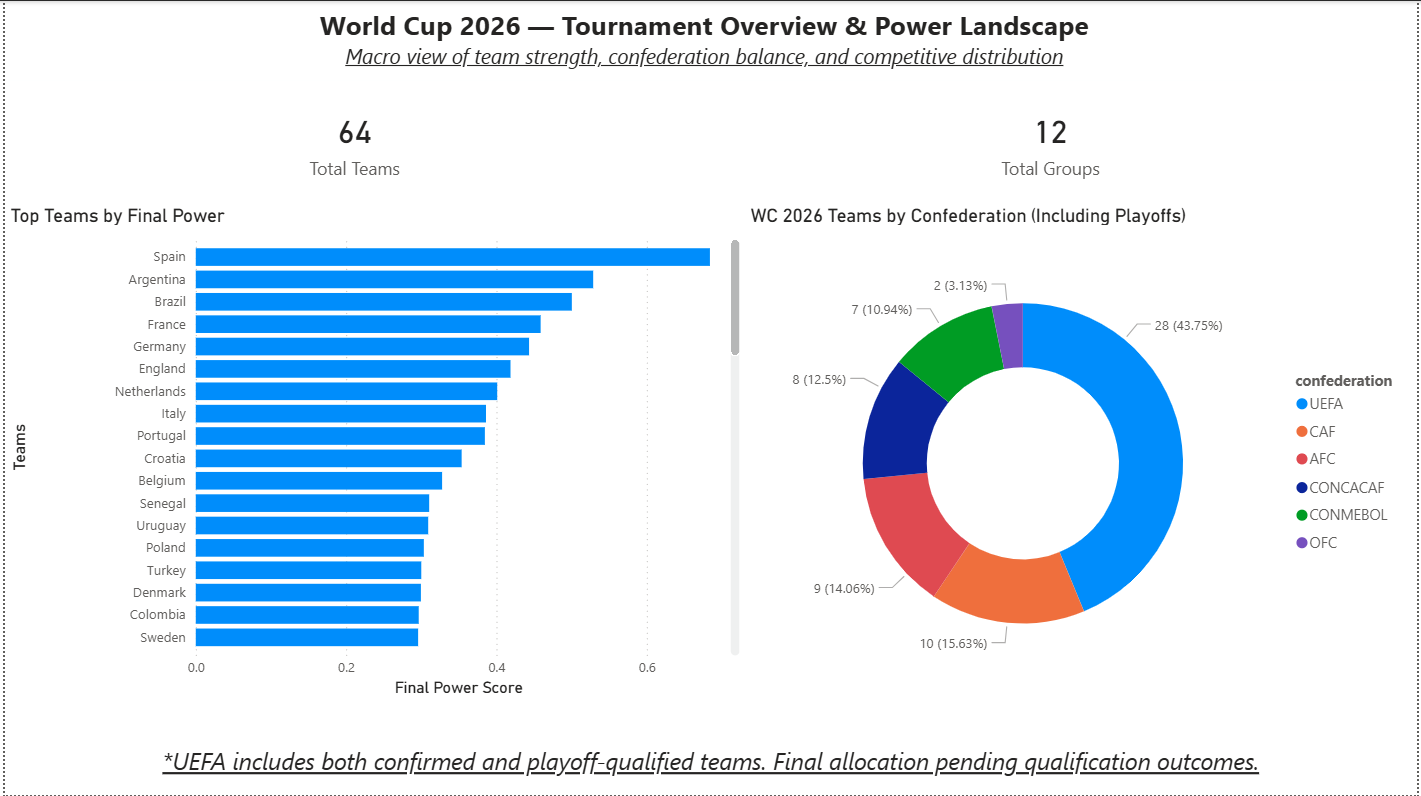

The page's visual inventory and layout, read from the dashboard file:
{"tool":"powerbi","page":{"name":"WC2026-Tournament Overview","canvas":[1280,720],"ordinal":0},"visuals":[{"type":"card","fields":{"Values":["gold_final_power_score.Total Teams"]},"box":[0,72,634.2,111.9],"z":0},{"type":"card","fields":{"Values":["gold_final_power_score.Total Groups"]},"box":[634.2,72,628.3,111.9],"z":1000},{"type":"clusteredBarChart","title":"Top Teams by Final Power","fields":{"Category":["gold_final_power_score.team_name"],"Y":["Sum(gold_final_power_score.final_power_score)"]},"box":[0,183.8,671.1,451.3],"z":2000},{"type":"donutChart","title":"WC 2026 Teams by Confederation (Including Playoffs)","fields":{"Category":["gold_wc2026_team_master.confederation"],"Y":["CountNonNull(gold_wc2026_team_master.team_name)"]},"box":[671.1,183.8,608.9,451.3],"z":3000},{"type":"textbox","box":[0,669.2,1280,50.6],"z":4000},{"type":"textbox","box":[0,0,1268.3,72],"z":5000}]}

Visuals, with their boxes in screenshot pixels (x1, y1, x2, y2), scaled from the page's 1280x720 canvas onto the 1421x796 screenshot:
card - gold_final_power_score.Total Teams: bbox(0, 80, 704, 203)
card - gold_final_power_score.Total Groups: bbox(704, 80, 1402, 203)
"Top Teams by Final Power" clusteredBarChart: bbox(0, 203, 745, 702)
"WC 2026 Teams by Confederation (Including Playoffs)" donutChart: bbox(745, 203, 1420, 702)
textbox: bbox(0, 740, 1420, 795)
textbox: bbox(0, 0, 1408, 80)
